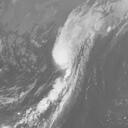cyclone: (51, 28, 81, 72)
